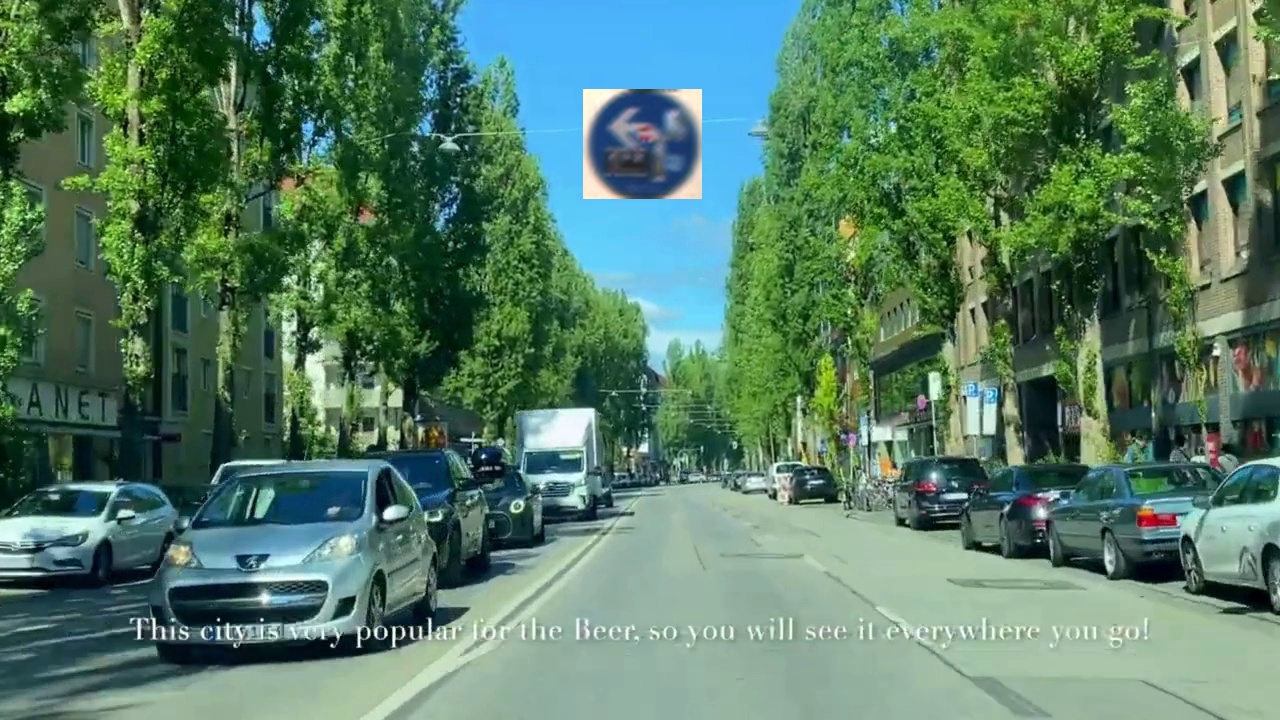Turn left: (583, 89, 702, 199)
